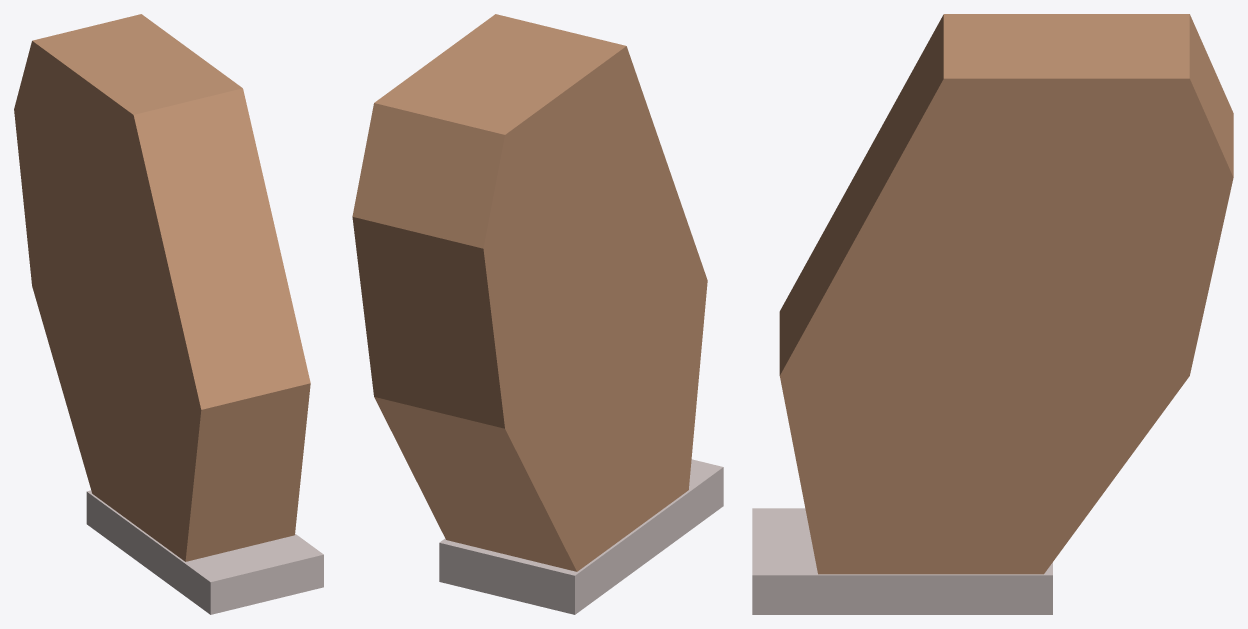
Rendered from assault_rifle_grip.glb.
3 views of the same model, side by side, from view 1: azimuth 30°, elevation 25°; view 2: azimuth 150°, elevation 25°; view 3: azimuth 270°, elevation 25° (orthographic). The views are drawn at different scales.
Visible parts, largest first — view 1: grip; view 2: grip; view 3: grip.
Boxes of the visible parts, <box> form: grip: <box>14,14,323,614</box>; grip: <box>352,14,723,614</box>; grip: <box>752,14,1233,614</box>.
Bounding box in the file's own units: 0.029 × 0.108 × 0.088.
